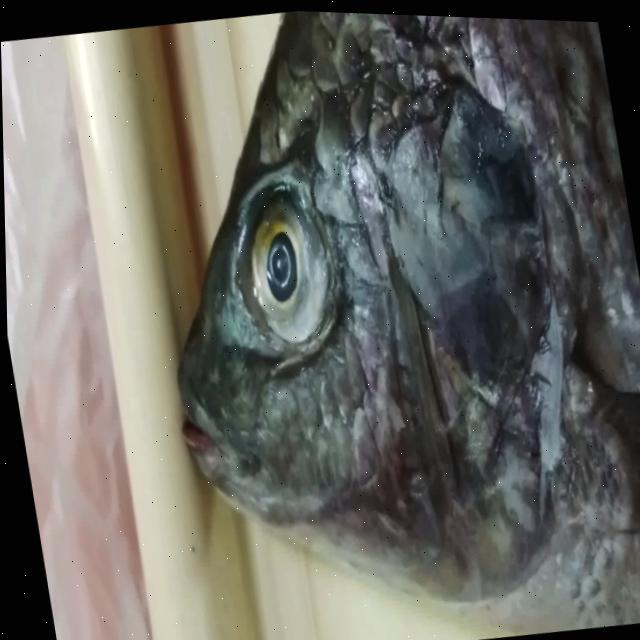Non-Fresh: (190, 135, 378, 388)
